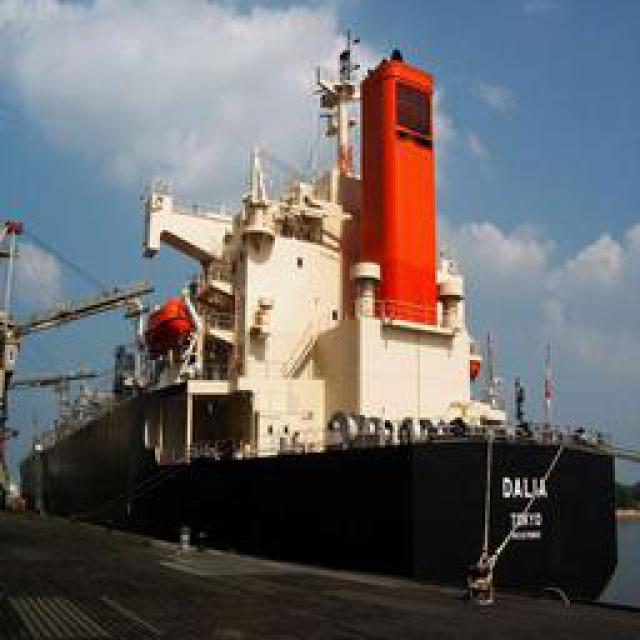Ship: (33, 21, 638, 601)
